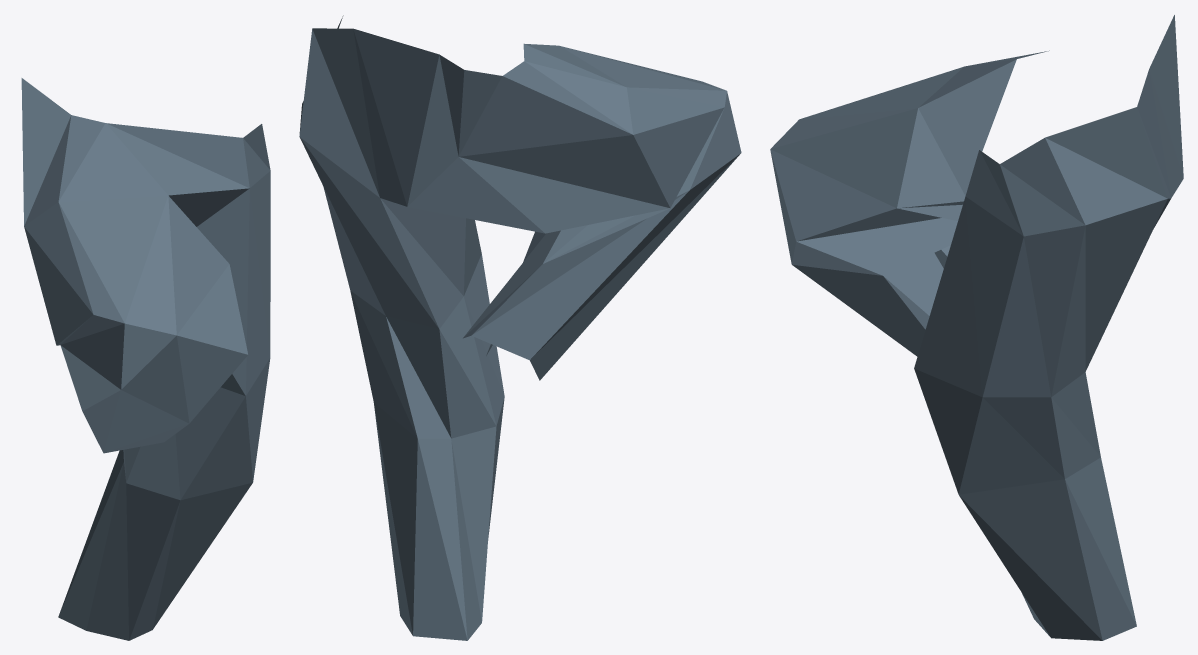
3 renders of one model, left to right at view 1: azimuth 30°, elevation 25°; view 2: azimuth 150°, elevation 25°; view 3: azimuth 270°, elevation 25°, orthographic. The views are drawn at different scales.
Size of the model in its own units: 0.6 by 1.19 by 0.7535.
